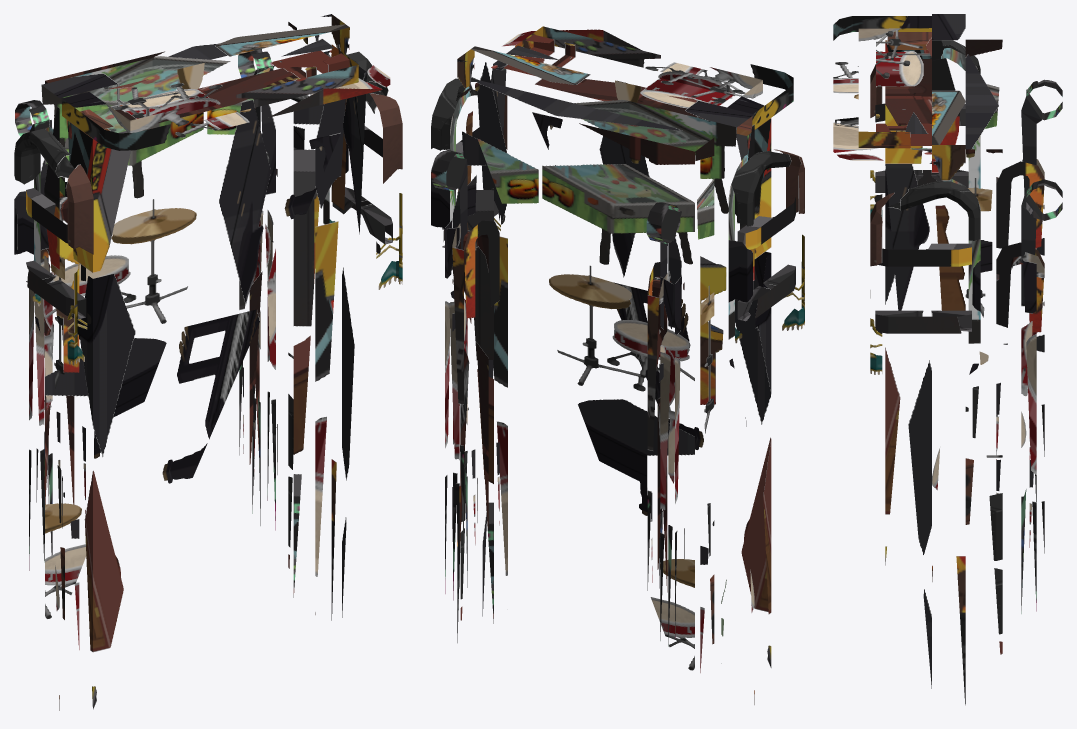
3 renders of one model, left to right at view 1: azimuth 30°, elevation 25°; view 2: azimuth 150°, elevation 25°; view 3: azimuth 270°, elevation 25°, orthographic. The views are drawn at different scales.
Bounding box in the file's own units: 1.07 × 1.89 × 0.6913.
